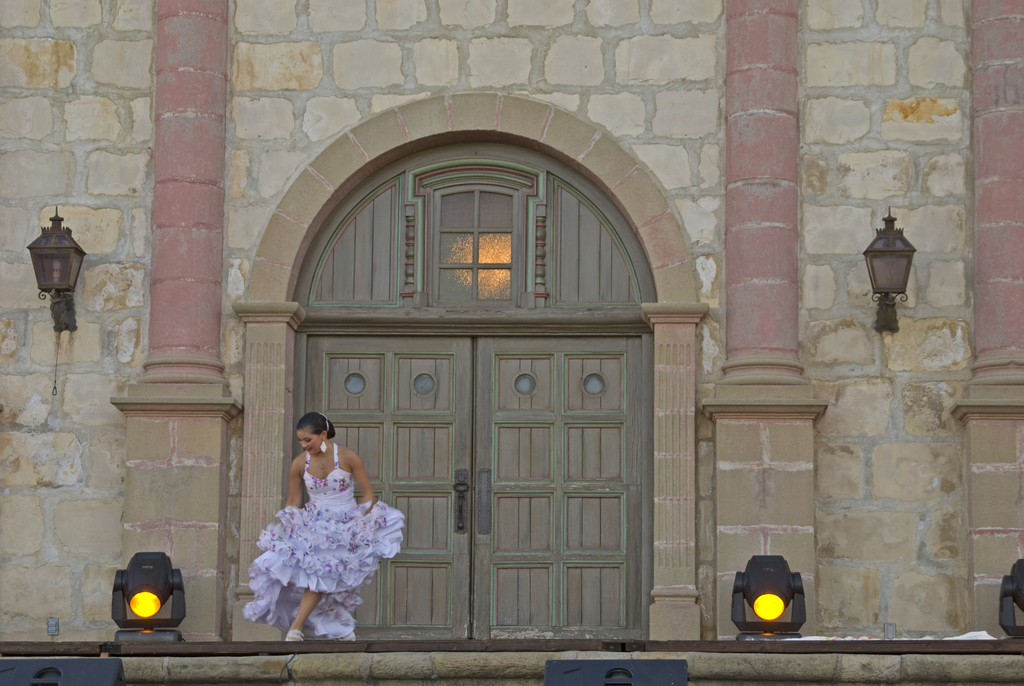Door: (273, 236, 668, 633)
